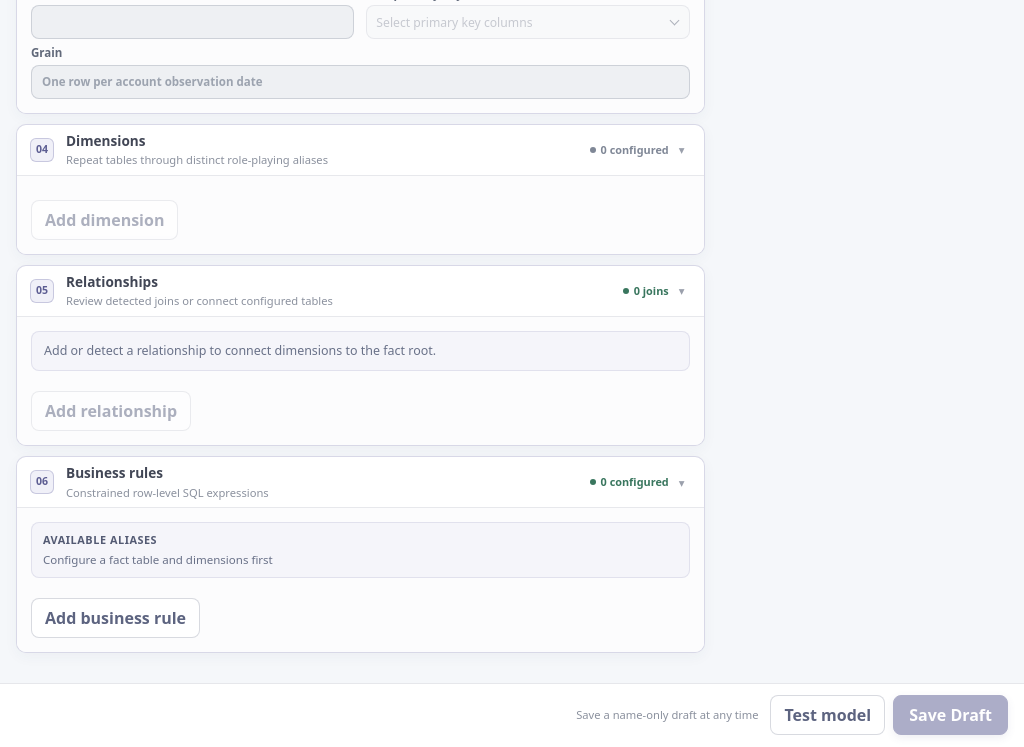
Test: DataModelBuilder › renders a blank builder and keeps Test clickable for incomplete drafts
(page scrolled)
Click the button "Test model" at (828, 716), box [770, 696, 885, 736]
(page scrolled)
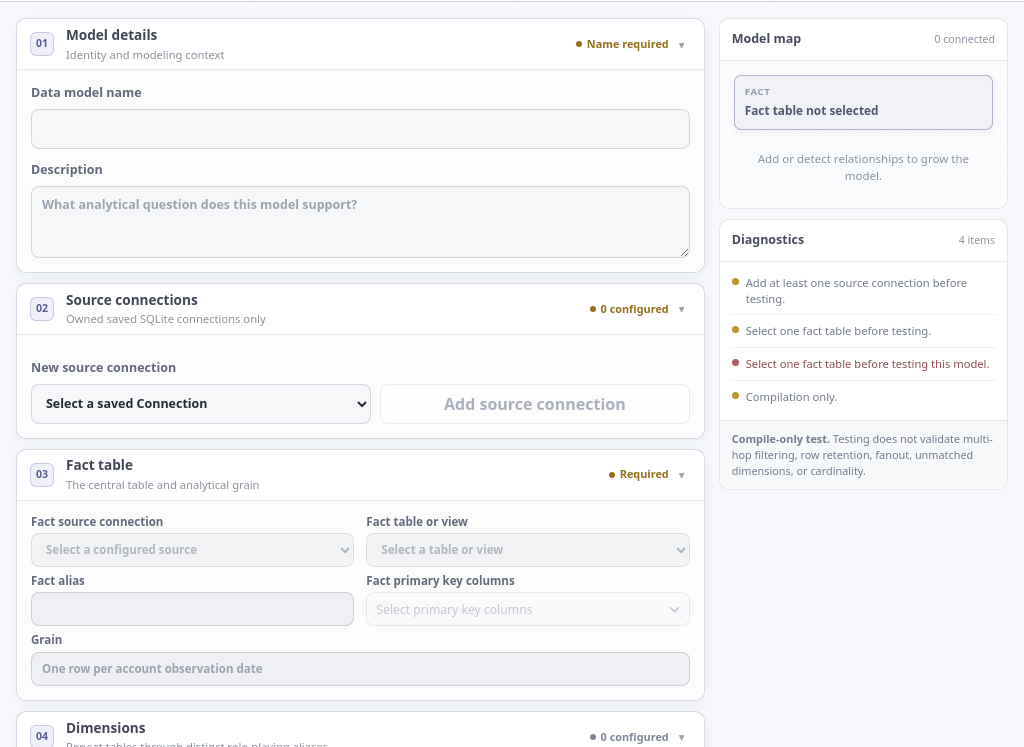
Expected: the text "Select one fact table before testing this model." is shown, [730, 347, 997, 380]
